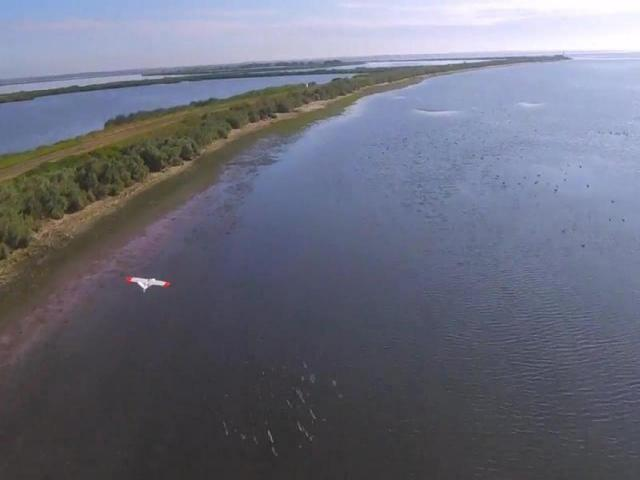hedef: (120, 271, 172, 302)
